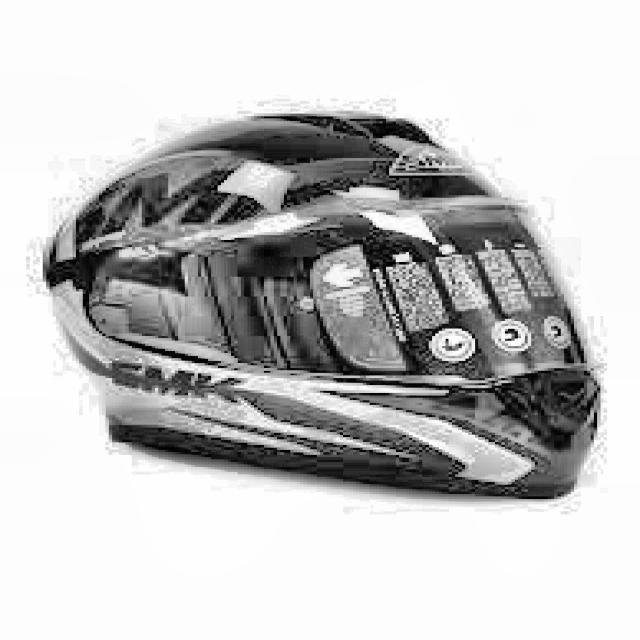Helmet: (33, 98, 612, 526)
